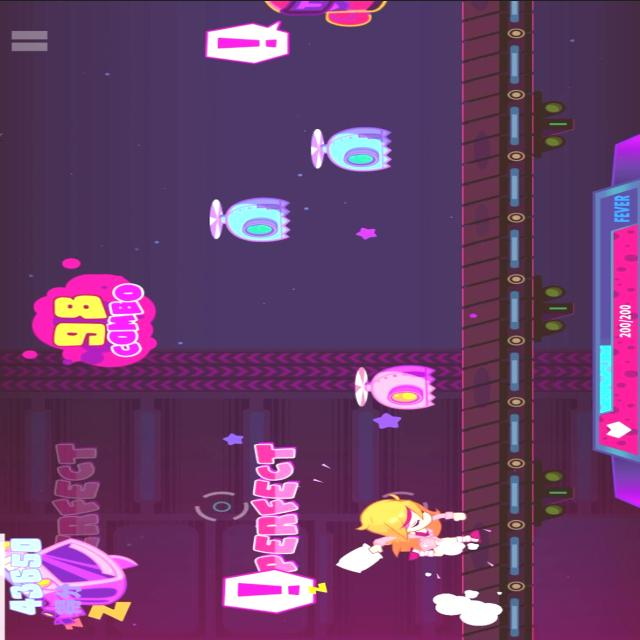che: (5, 536, 140, 628)
jiqiqiu: (304, 122, 400, 173), (206, 191, 296, 241), (354, 362, 434, 410)
